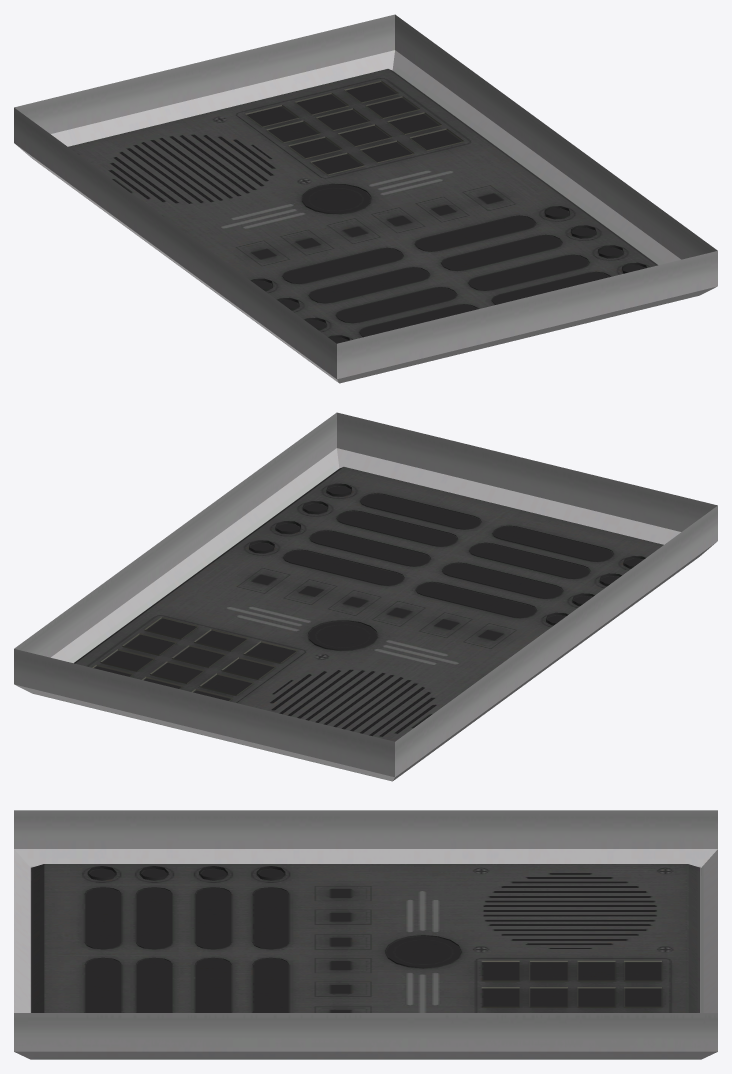
Rendered from nt_intercom_LOD0.obj.
3 views of the same model, one above another, from view 1: azimuth 30°, elevation 25°; view 2: azimuth 150°, elevation 25°; view 3: azimuth 270°, elevation 25° (orthographic). The views are drawn at different scales.
Visible parts, largest first — view 1: mtl_nt_intercom; view 2: mtl_nt_intercom; view 3: mtl_nt_intercom.
Part boxes in pixels (box(x1,y1,x2,y2)): mtl_nt_intercom: box(14, 14, 717, 383); mtl_nt_intercom: box(14, 412, 717, 781); mtl_nt_intercom: box(14, 810, 717, 1059).
Size of the model in its own units: 31.7 by 4.09 by 46.51.
